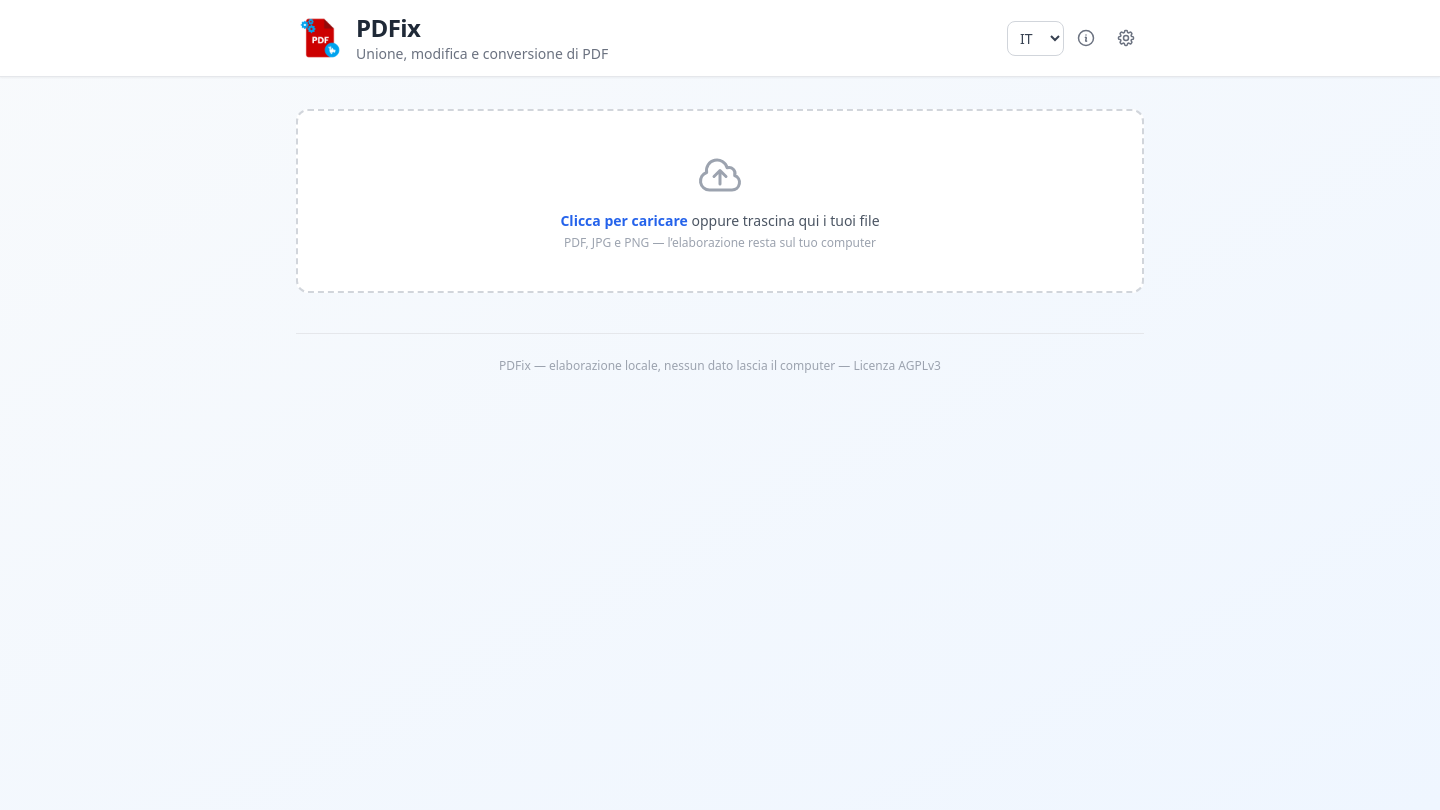
Test case: App › mostra l errore restituito dal motore
The image size is (1440, 810).
Click the element with test id "uploader" at (720, 201), box [296, 109, 1144, 293]
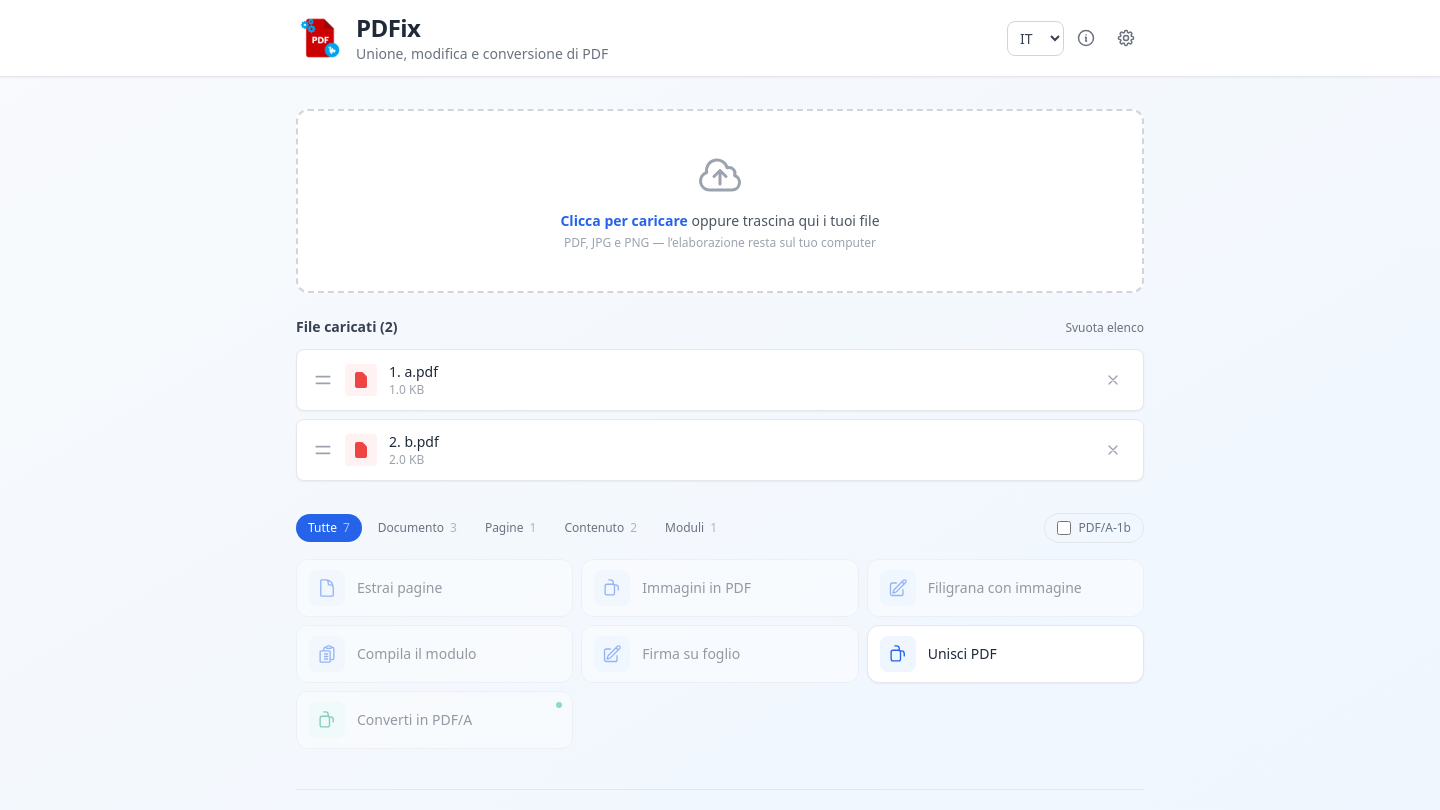
Click the button with test id "action-merge" at (898, 654), box [867, 625, 1144, 683]
(page scrolled)
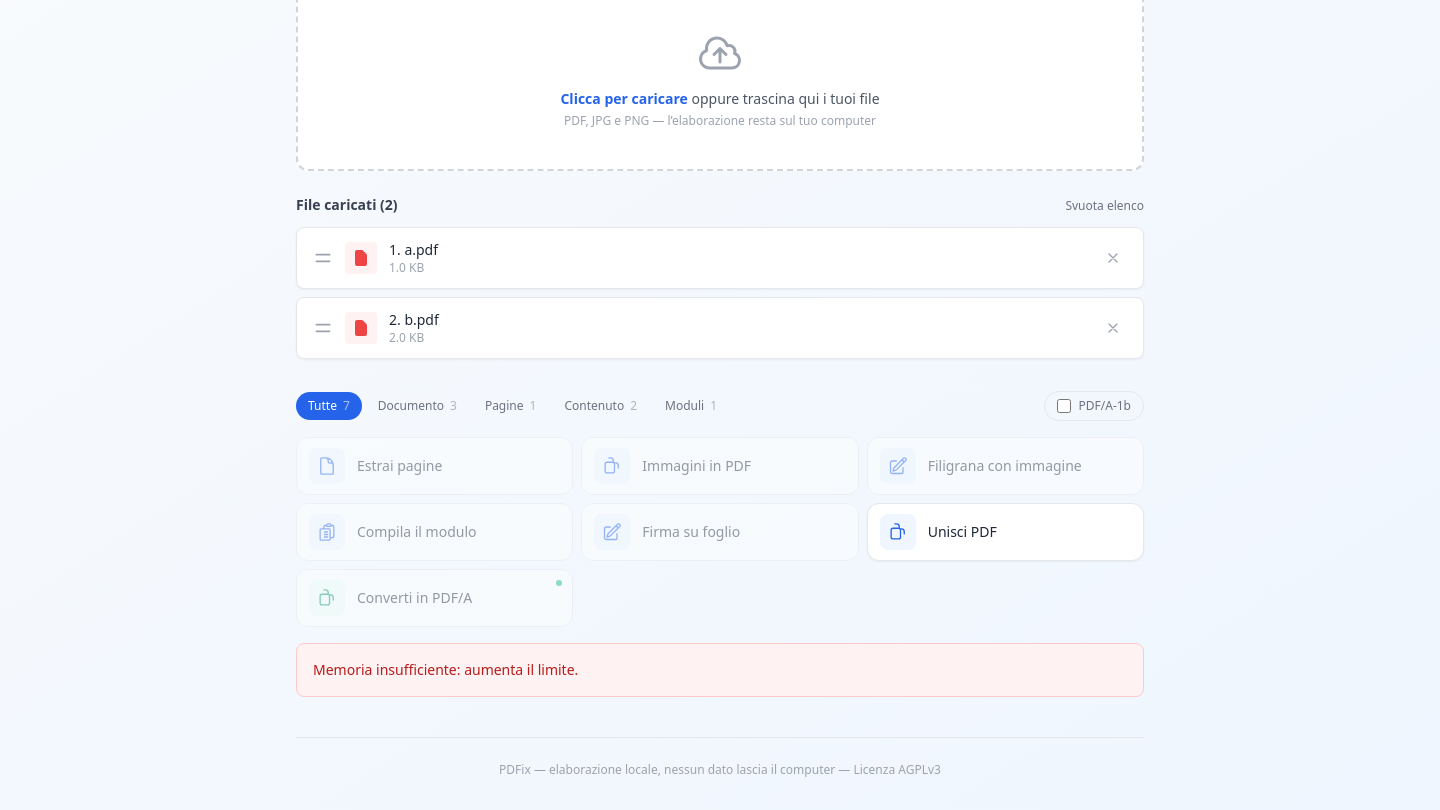
Result: the text with test id "status-error" shows "Memoria insufficiente" at [313, 660, 578, 679]
